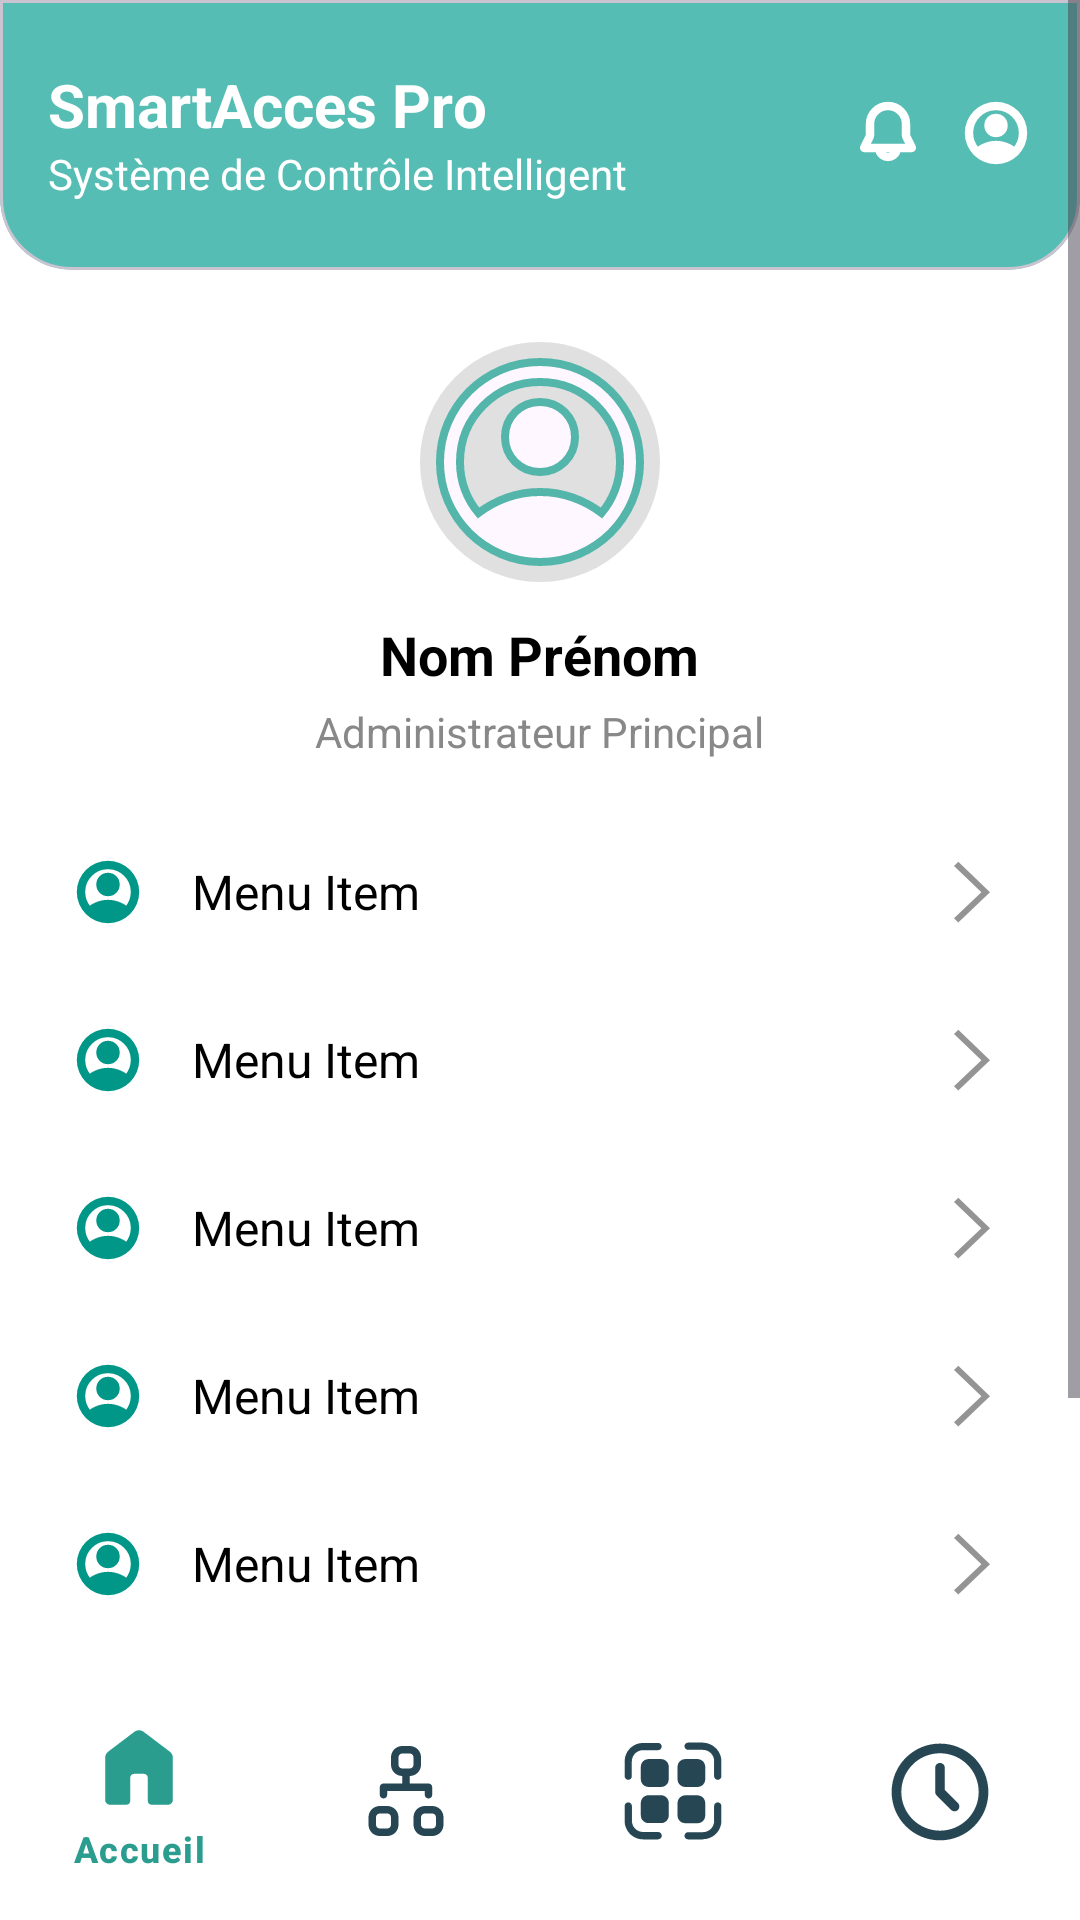

Icon bounding boxes for this 1080×1920 phone screenshot, format (x1, y1, x2, y2):
chevron right: (954, 862, 990, 923), (954, 1030, 990, 1091), (954, 1198, 990, 1259), (954, 1366, 990, 1427), (954, 1534, 990, 1595)
notification: (860, 101, 916, 161)
profile: (964, 101, 1028, 165), (420, 342, 660, 582), (76, 860, 140, 924), (76, 1028, 140, 1092), (76, 1196, 140, 1260), (76, 1364, 140, 1428), (76, 1532, 140, 1596)
